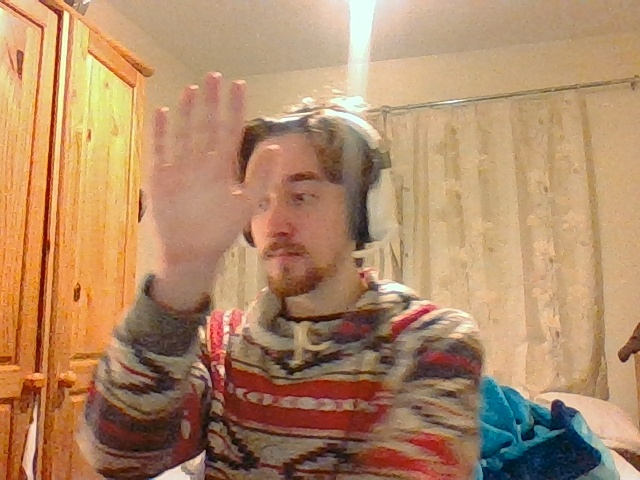hello: (145, 72, 281, 272)
